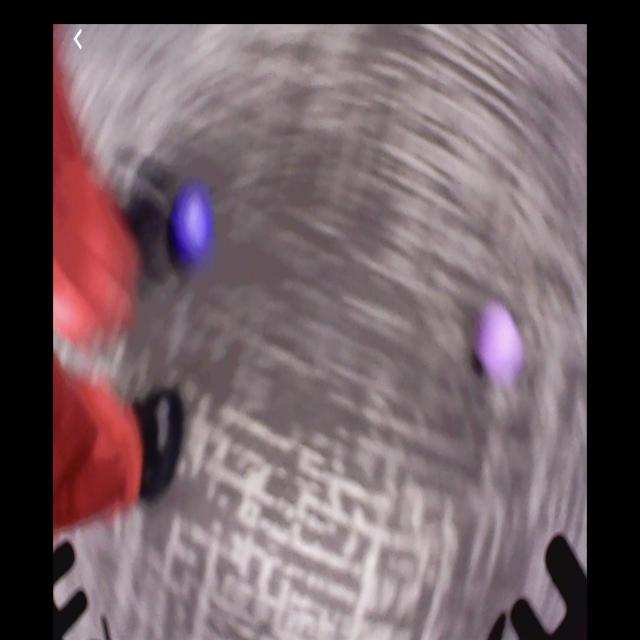ball: (479, 306, 522, 378), (176, 185, 215, 253)
